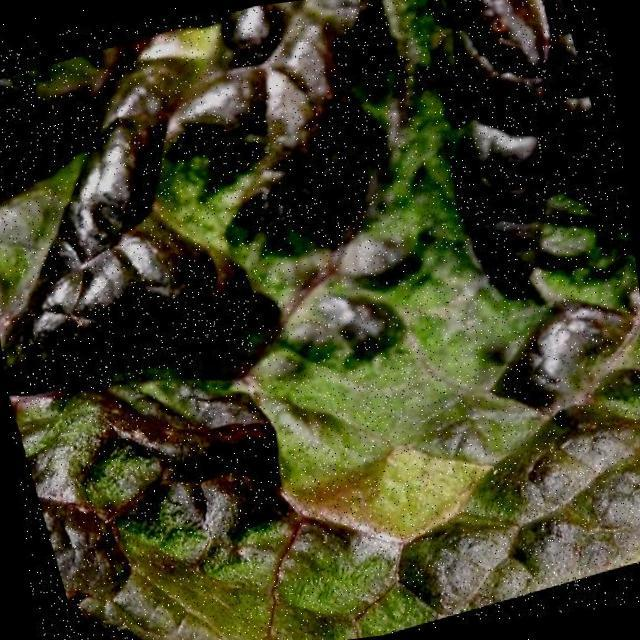Downy_Mildew: (0, 0, 444, 417)
